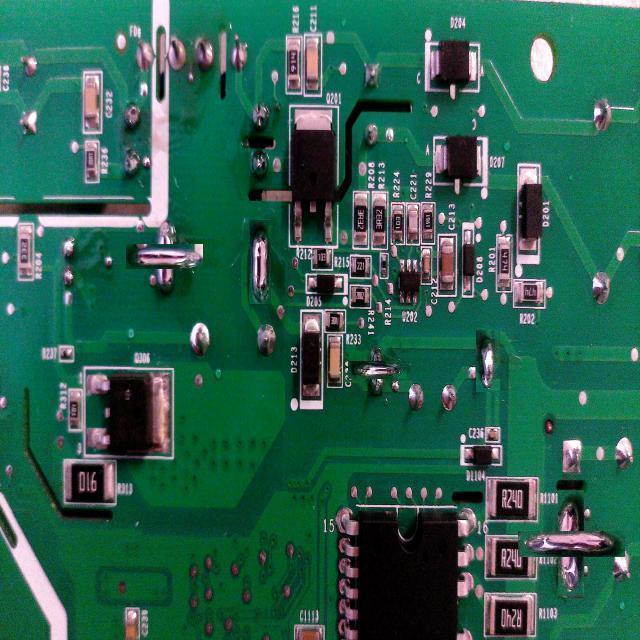Short_circuit: (538, 511, 605, 578), (139, 231, 190, 282), (249, 219, 271, 304), (358, 350, 397, 390), (476, 330, 500, 392)
